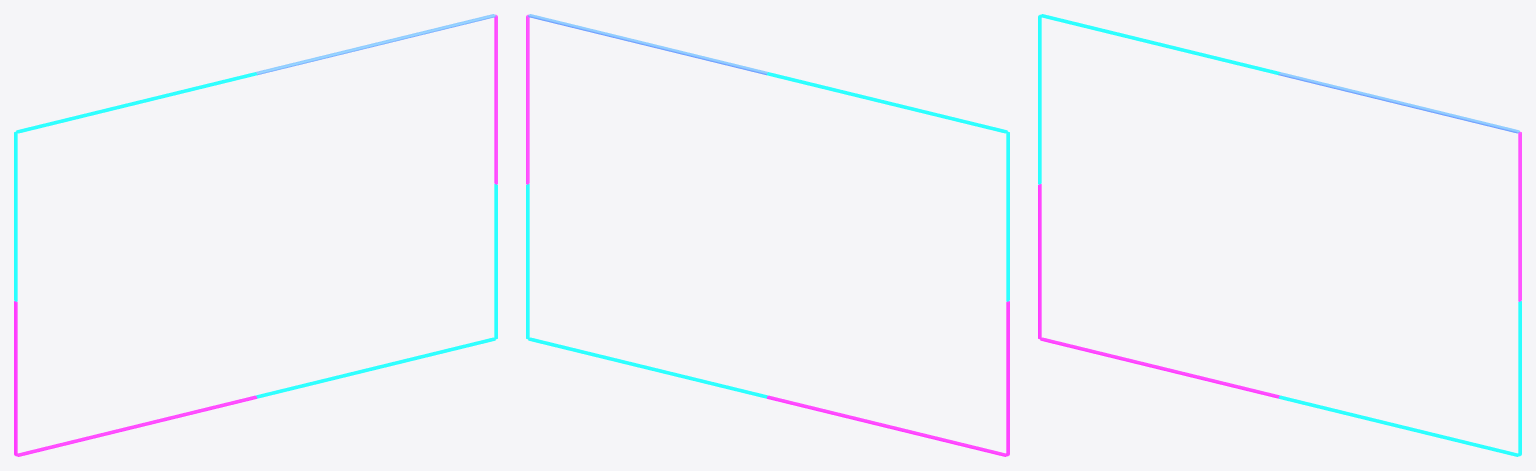
File: infinite_neon_portal_frame.glb
3 renders of one model, left to right at view 1: azimuth 30°, elevation 25°; view 2: azimuth 150°, elevation 25°; view 3: azimuth 330°, elevation 25°, orthographic.
Parts seen in each view (by area): view 1: Portal Top Cyan, Portal Bottom Magenta, Portal Bottom Cyan, Portal Top Blue, Portal Left Upper Cyan, Portal Right Upper Violet, Portal Left Lower Magenta, Portal Right Lower Cyan; view 2: Portal Top Cyan, Portal Bottom Magenta, Portal Bottom Cyan, Portal Top Blue, Portal Left Upper Cyan, Portal Right Upper Violet, Portal Left Lower Magenta, Portal Right Lower Cyan; view 3: Portal Top Blue, Portal Bottom Cyan, Portal Bottom Magenta, Portal Top Cyan, Portal Right Upper Violet, Portal Left Upper Cyan, Portal Left Lower Magenta, Portal Right Lower Cyan.
Boxes of the visible parts, x1,y1,x2,y2 form: Portal Top Cyan: (16,72,257,133); Portal Bottom Magenta: (17,395,257,456); Portal Bottom Cyan: (255,337,495,398); Portal Top Blue: (255,14,495,75); Portal Left Upper Cyan: (14,131,17,301); Portal Right Upper Violet: (494,14,497,184); Portal Left Lower Magenta: (14,301,17,456); Portal Right Lower Cyan: (494,184,497,339); Portal Top Cyan: (767,72,1007,133); Portal Bottom Magenta: (767,395,1006,456); Portal Bottom Cyan: (528,337,768,398); Portal Top Blue: (528,14,768,75); Portal Left Upper Cyan: (1006,131,1009,301); Portal Right Upper Violet: (526,14,529,184); Portal Left Lower Magenta: (1006,301,1009,456); Portal Right Lower Cyan: (526,184,529,339); Portal Top Blue: (1278,72,1519,133); Portal Bottom Cyan: (1279,395,1518,456); Portal Bottom Magenta: (1040,337,1280,398); Portal Top Cyan: (1040,14,1280,75); Portal Right Upper Violet: (1518,131,1521,301); Portal Left Upper Cyan: (1038,14,1041,184); Portal Left Lower Magenta: (1038,184,1041,339); Portal Right Lower Cyan: (1518,301,1521,456).
Size of the model in its own units: 11.95 by 7.71 by 0.1.
